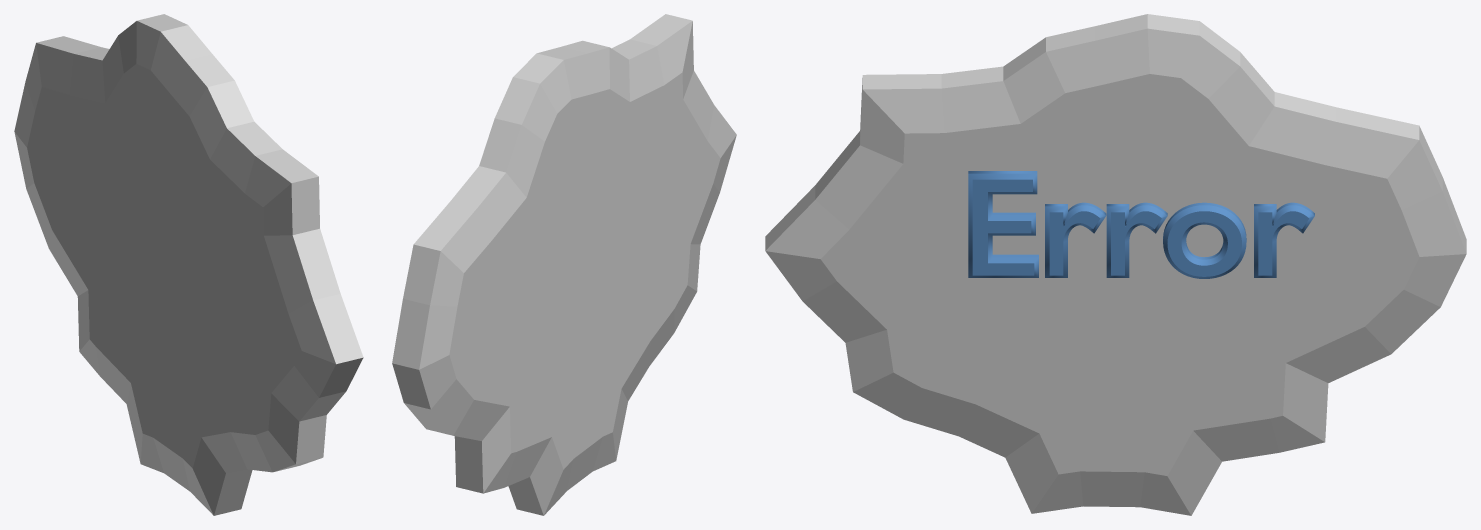
File: MRUIError.fbx
3 renders of one model, left to right at view 1: azimuth 30°, elevation 25°; view 2: azimuth 150°, elevation 25°; view 3: azimuth 270°, elevation 25°, orthographic. The views are drawn at different scales.
Visible parts, largest first — view 1: ErrorTile; view 2: ErrorTile; view 3: ErrorTile, Error.
Part boxes in pixels (x1,y1,x2,y2): ErrorTile: (14,14,363,515); ErrorTile: (392,14,736,515); ErrorTile: (765,14,1466,515); Error: (968,171,1314,278).
Size of the model in its own units: 38.43 by 306 by 400.
